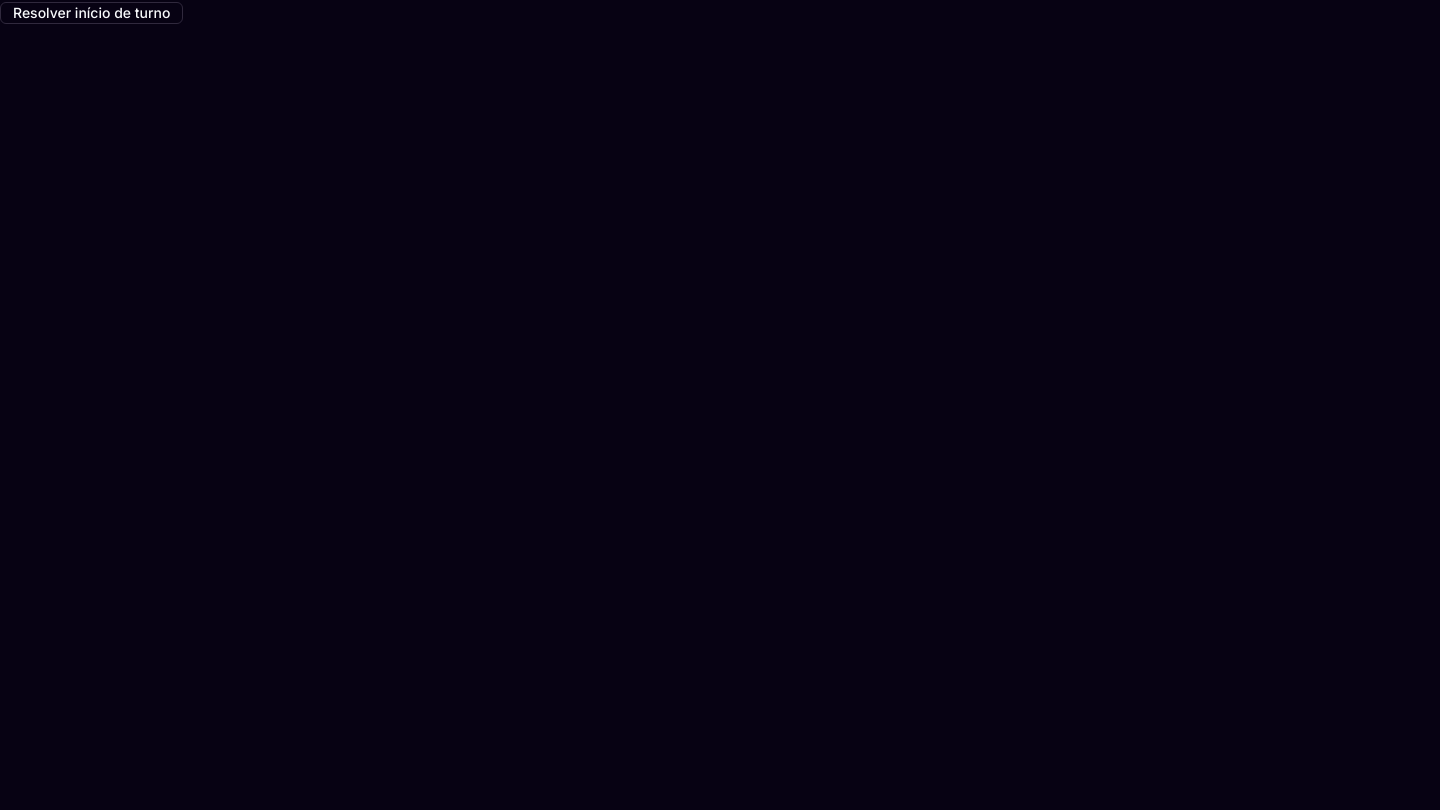
Scenario: Confirmação de início de turno › prévia e cancelamento não alteram recursos
The width and height of the screenshot is (1440, 810).
Later steps or results of the test are not shown.
Click the button "Resolver início de turno". click: (92, 13)
box: [0,2,183,24]
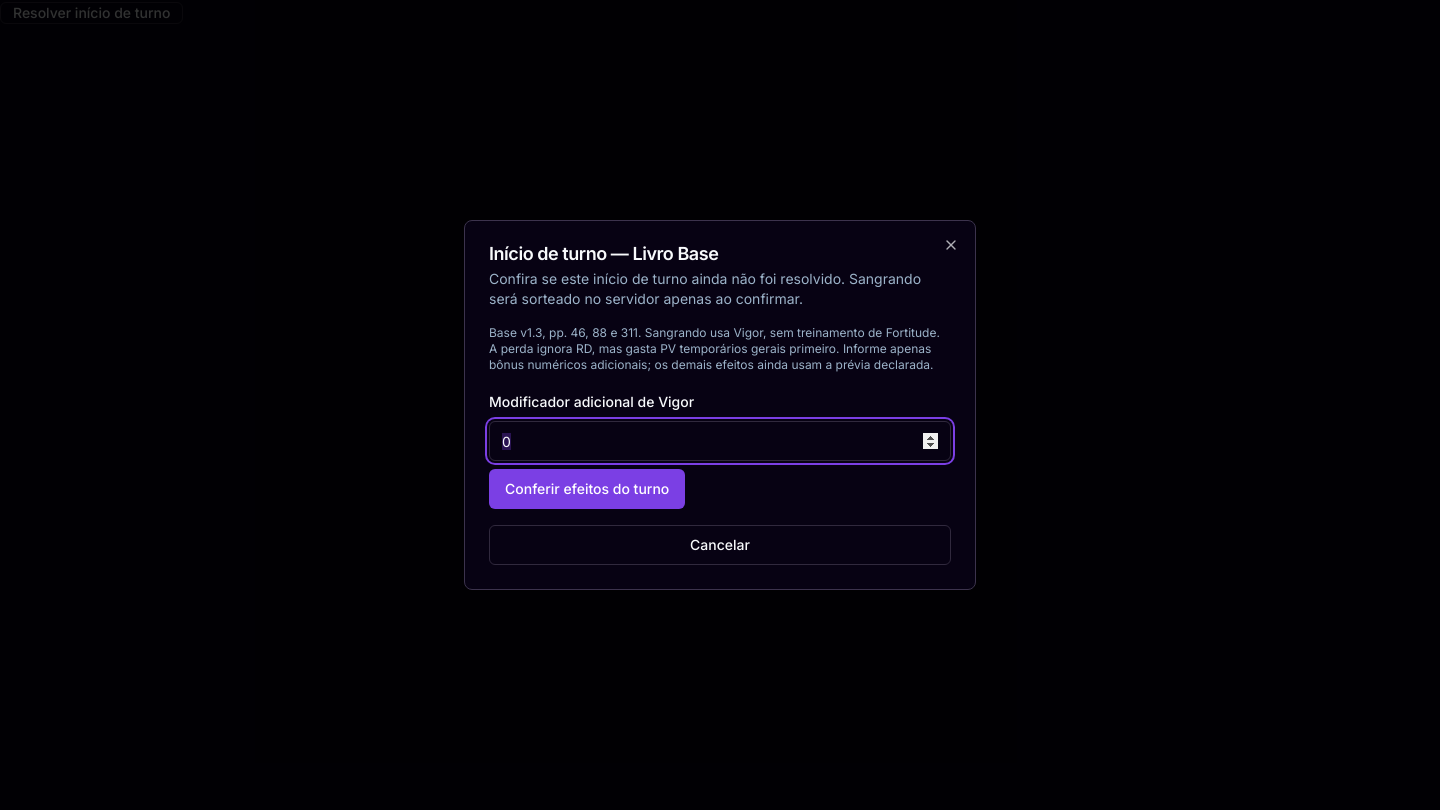
Click the button "Conferir efeitos do turno". click: (587, 489)
box: [489,469,685,509]
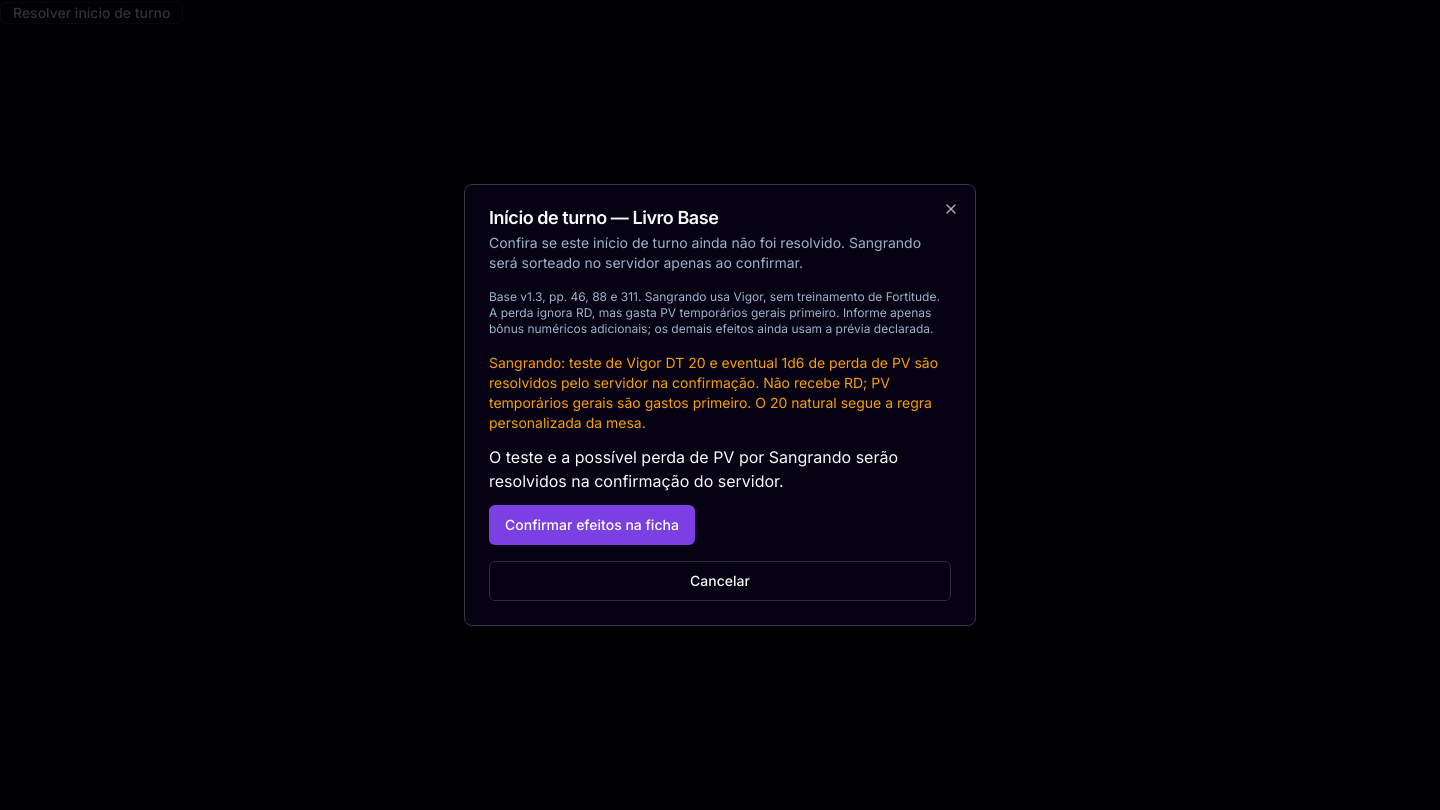
expect the text "resolvidos pelo servidor na confirmação" is shown: met, box [489,354,938,431]
